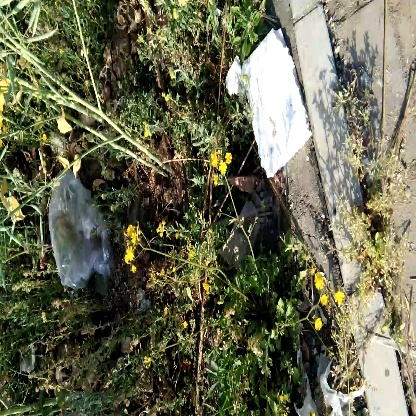plastic-bag: (237, 27, 320, 172), (44, 167, 115, 288)
